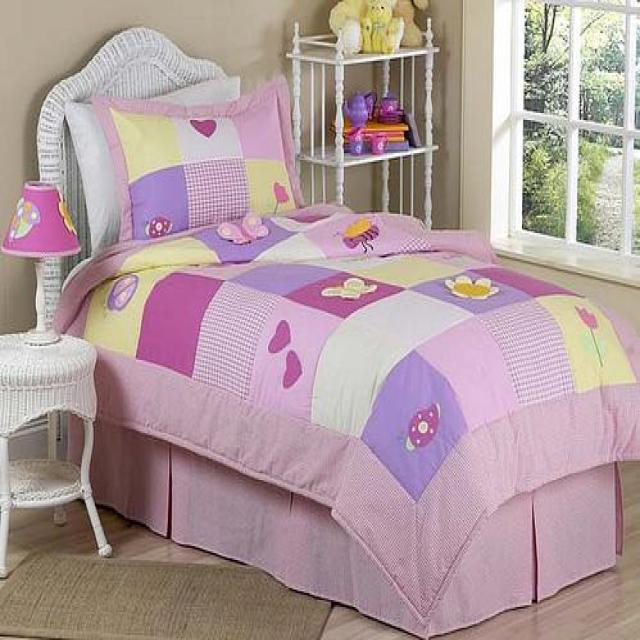bed: (34, 19, 638, 638)
table: (0, 329, 112, 577)
